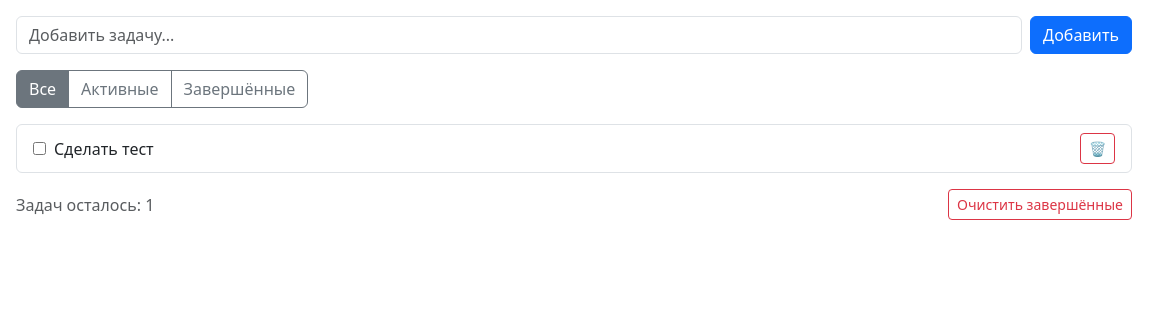
Scenario: Фильтрация активных задач
Step 1. Type "Задача 1" into the field with placeholder "Добавить задачу..." → (519, 35), box [16,16,1022,54]
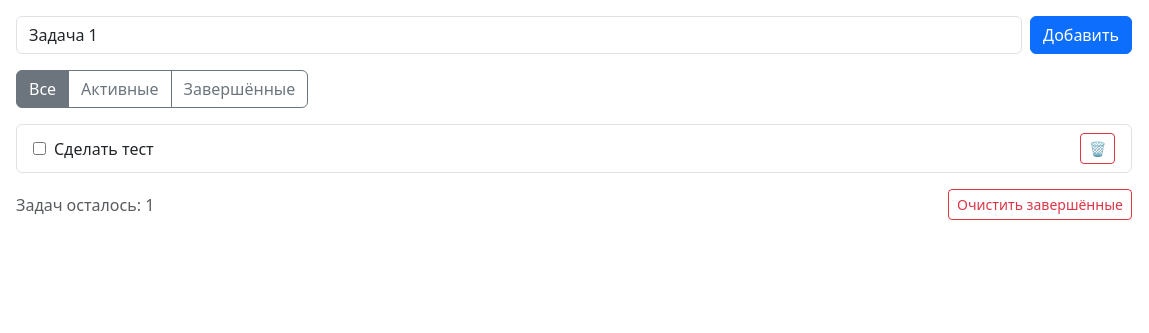
Step 2. Click the button "Добавить" → (1081, 35), box [1030,16,1132,54]
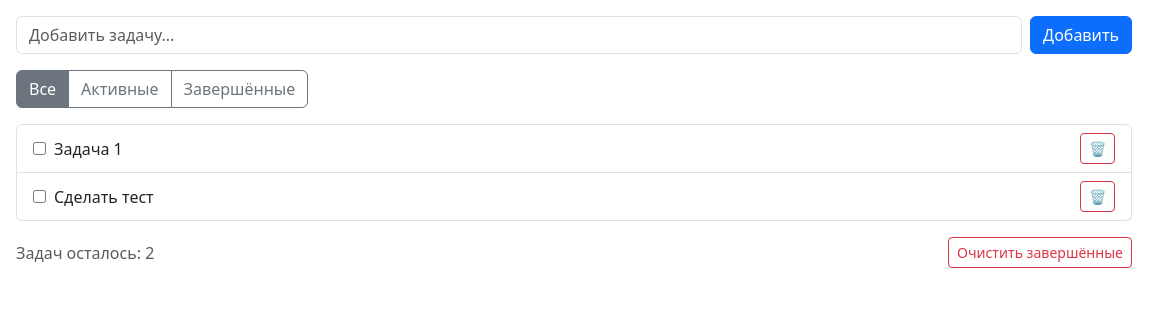
Step 3. Type "Задача 2" into the field with placeholder "Добавить задачу..." → (519, 35), box [16,16,1022,54]
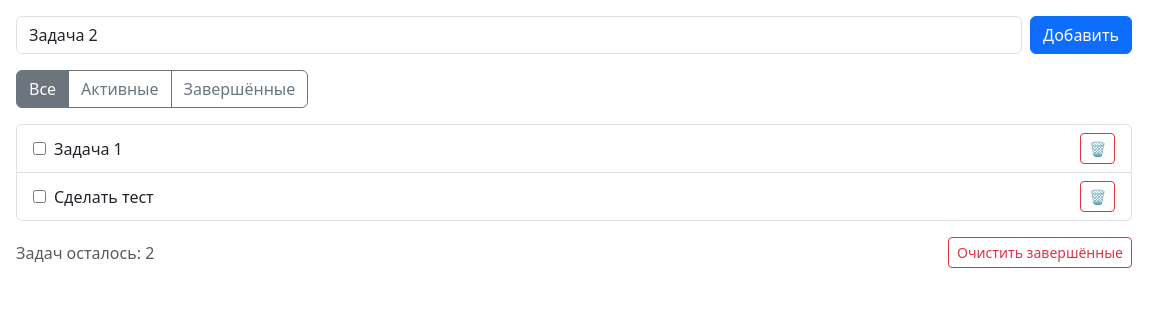
Step 4. Click the button "Добавить" → (1081, 35), box [1030,16,1132,54]
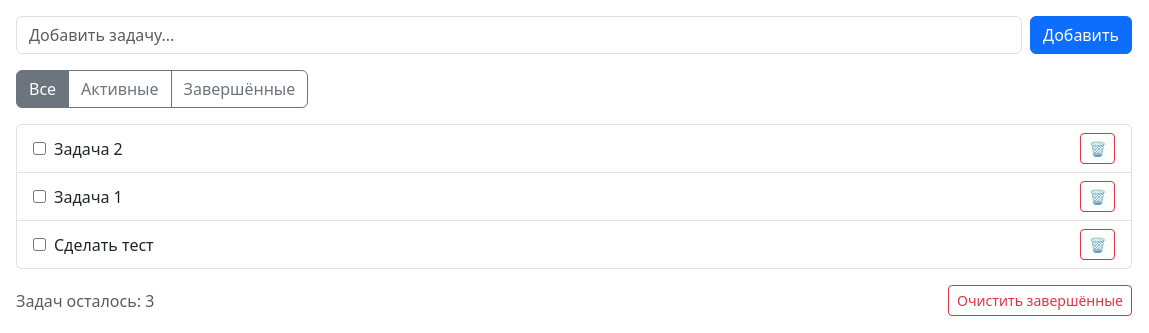
Step 5. Click the checkbox named "Чекбокс для Задача 2" → (40, 148), box [33,142,46,155]
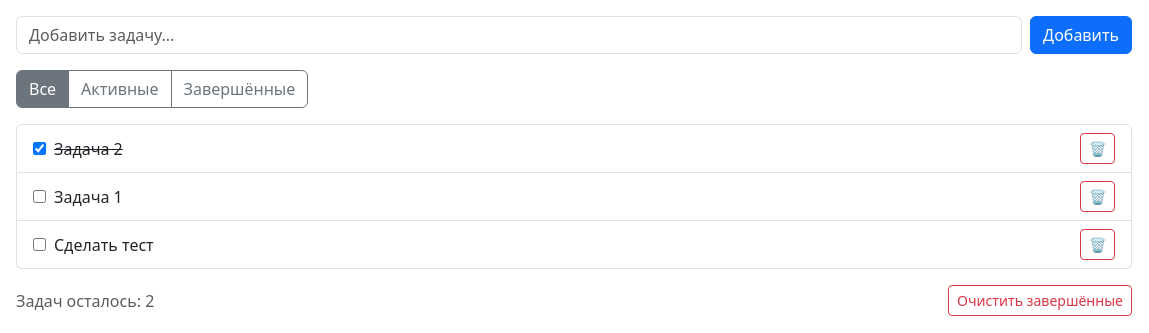
Step 6. Click the button "Активные" → (120, 89), box [68,70,172,108]
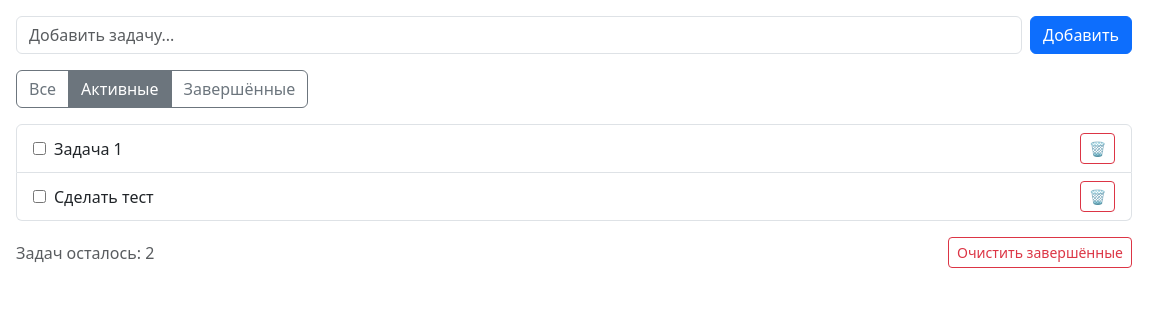
Result: the text "Задача 1" is shown at [54,136,123,160]
Result: the text "Задача 2" is gone
